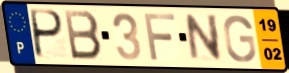3: (112, 12, 142, 62)
B: (62, 9, 104, 62)
F: (142, 12, 177, 62)
G: (221, 14, 258, 64)
N: (183, 13, 224, 63)
P: (30, 8, 66, 61)
